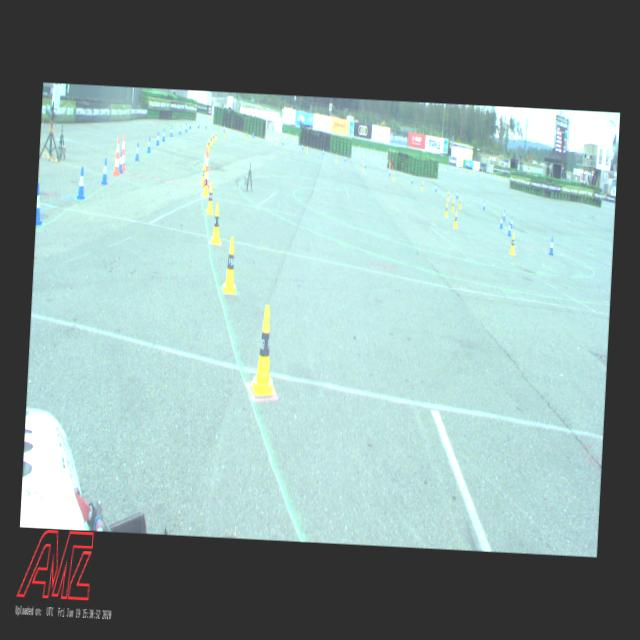blue_cone: (76, 167, 88, 200), (36, 181, 44, 225), (101, 158, 110, 185), (119, 150, 125, 174), (548, 237, 554, 256), (146, 137, 152, 153), (507, 219, 512, 237), (135, 142, 140, 160), (509, 216, 513, 230), (502, 209, 507, 220), (156, 132, 160, 145), (500, 216, 504, 228), (162, 129, 166, 141), (482, 200, 486, 210), (170, 126, 173, 137), (185, 123, 188, 132), (205, 122, 208, 129), (456, 190, 458, 200), (435, 183, 437, 192), (252, 132, 255, 138), (180, 126, 182, 134), (411, 176, 413, 184), (344, 154, 346, 162), (364, 160, 366, 168), (190, 122, 192, 129), (389, 170, 391, 177), (223, 125, 225, 132), (322, 149, 324, 156), (198, 122, 200, 128), (302, 144, 304, 150), (282, 139, 283, 146)
large_orange_cone: (111, 137, 124, 176), (202, 152, 212, 189), (118, 136, 128, 172), (202, 152, 210, 188)
yellow_cone: (250, 304, 280, 397), (221, 236, 239, 294), (210, 203, 223, 244), (206, 183, 216, 215), (202, 172, 210, 196), (509, 232, 516, 255), (201, 162, 206, 185), (454, 211, 458, 229), (204, 144, 208, 158), (444, 204, 448, 216), (450, 200, 454, 212), (209, 135, 213, 146), (207, 138, 210, 152), (458, 198, 462, 208), (446, 190, 449, 201), (212, 133, 215, 143), (215, 131, 218, 140), (245, 132, 248, 140), (224, 130, 226, 138), (362, 163, 364, 171), (276, 138, 278, 146), (421, 182, 423, 190), (306, 146, 308, 153), (393, 172, 394, 180), (336, 154, 337, 162)
